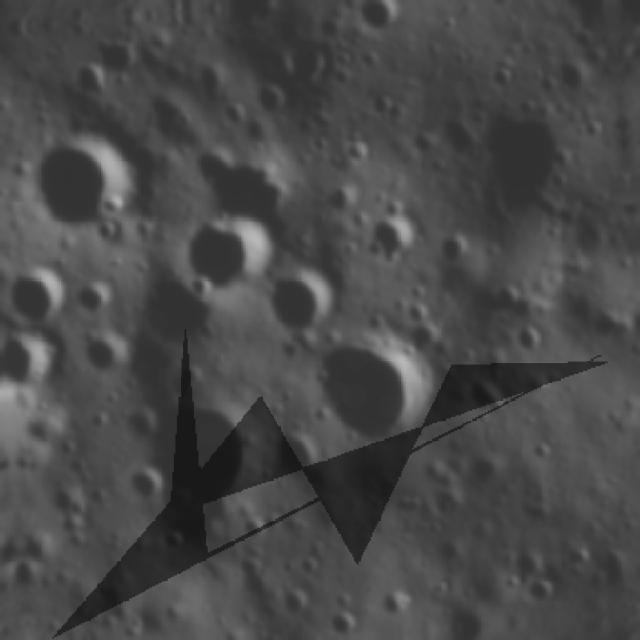crater: (302, 327, 444, 458), (460, 94, 583, 226), (18, 119, 142, 248), (148, 396, 260, 524), (178, 212, 278, 298), (132, 280, 232, 363), (263, 265, 354, 346), (3, 265, 72, 333), (0, 325, 62, 398), (363, 208, 428, 269), (71, 326, 131, 389), (276, 41, 341, 99), (269, 426, 323, 494), (455, 374, 514, 426), (243, 73, 297, 127), (349, 0, 408, 45), (435, 221, 482, 274), (463, 448, 511, 499), (559, 0, 615, 43), (59, 56, 108, 104), (70, 281, 116, 327), (92, 32, 139, 76), (519, 576, 567, 616), (277, 584, 320, 625), (505, 319, 549, 359), (125, 460, 163, 505), (376, 584, 418, 624), (617, 303, 640, 359), (324, 607, 361, 640)
